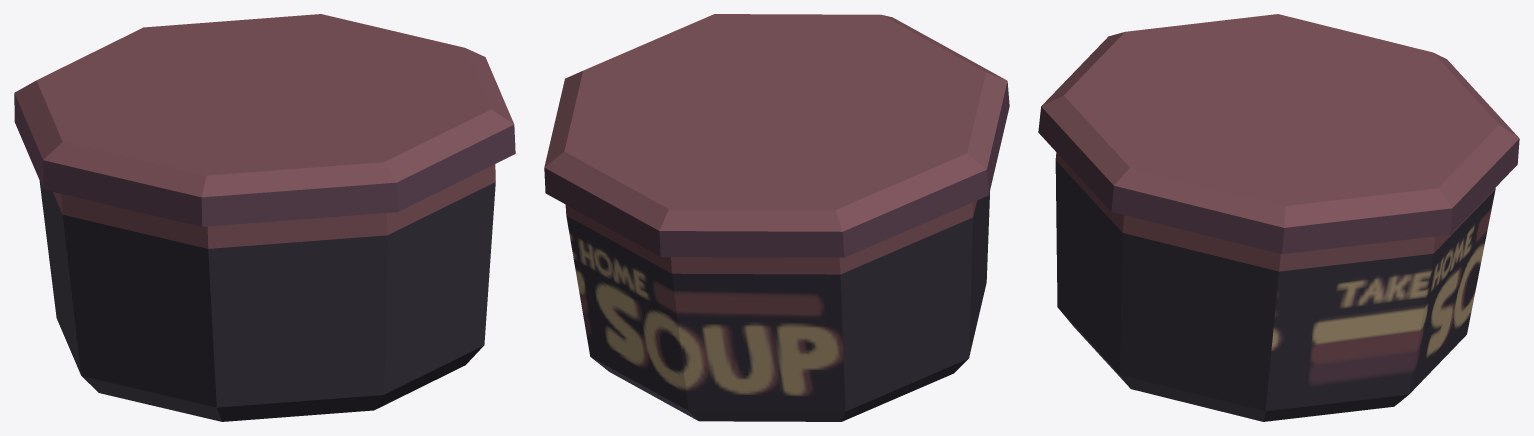
File: SeasonsGriftings.TakeHome.Soup.fbx
3 views of the same model, side by side, from view 1: azimuth 30°, elevation 25°; view 2: azimuth 150°, elevation 25°; view 3: azimuth 270°, elevation 25° (orthographic). The views are drawn at different scales.
Parts seen in each view (by area): view 1: TakeHome.Soup; view 2: TakeHome.Soup; view 3: TakeHome.Soup.
Part boxes in pixels (x1,y1,x2,y2): TakeHome.Soup: (14, 14, 515, 421); TakeHome.Soup: (544, 14, 1009, 421); TakeHome.Soup: (1038, 14, 1519, 421).
Bounding box in the file's own units: 45.11 × 27.08 × 45.14.
